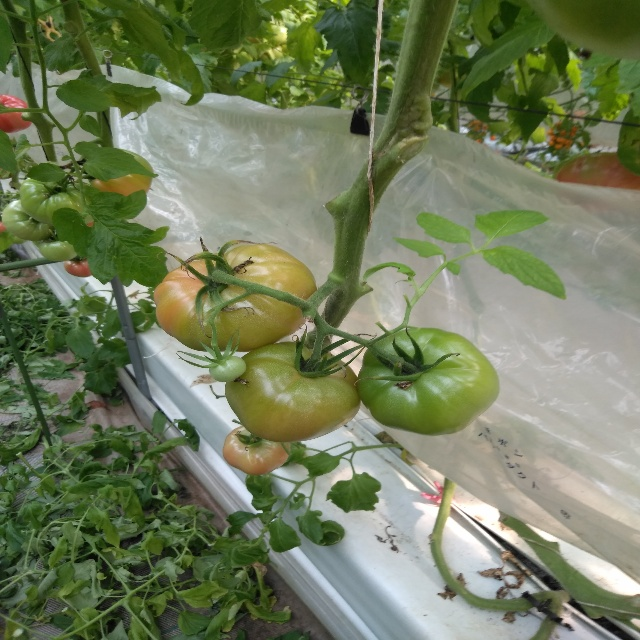b_fully_ripened: (0, 95, 34, 133)
b_green: (358, 328, 501, 436), (534, 0, 639, 62), (19, 176, 106, 226), (1, 199, 55, 241), (210, 355, 247, 382), (39, 240, 78, 262)
b_half_ripened: (153, 244, 317, 352), (225, 341, 361, 442), (223, 424, 291, 475), (90, 148, 154, 196), (63, 258, 92, 278)
